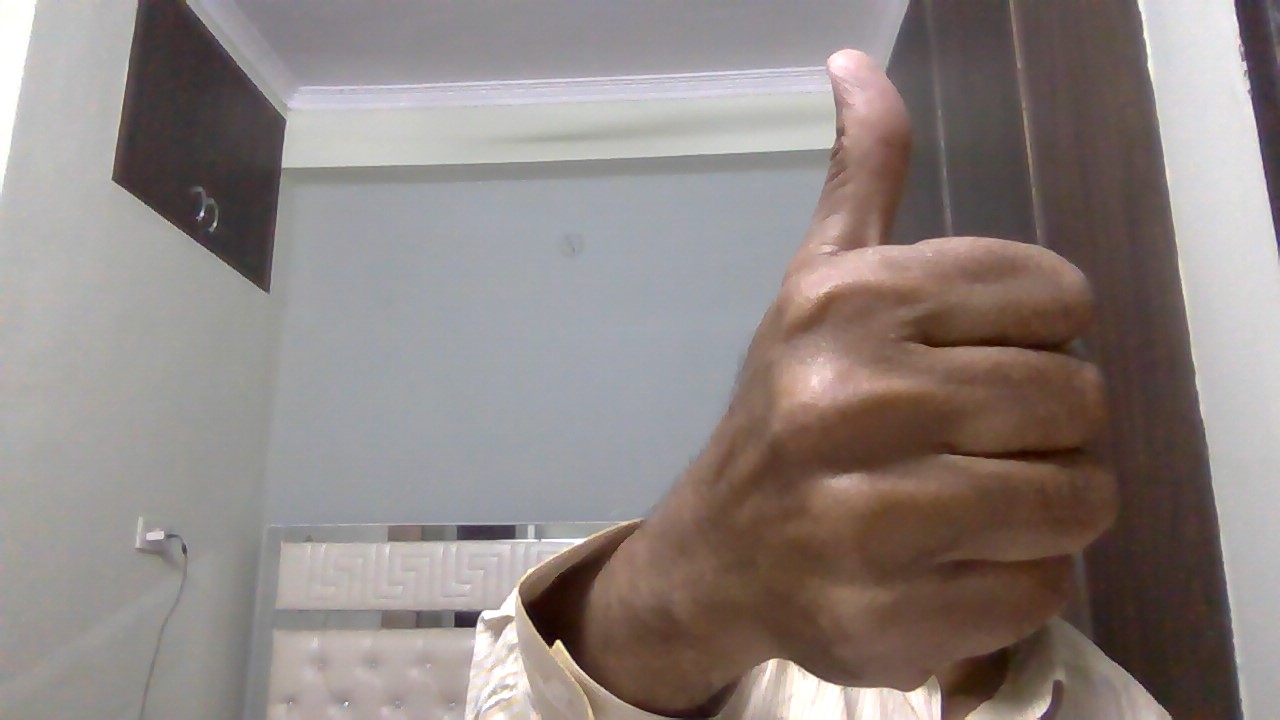Save: (717, 42, 1134, 704)
